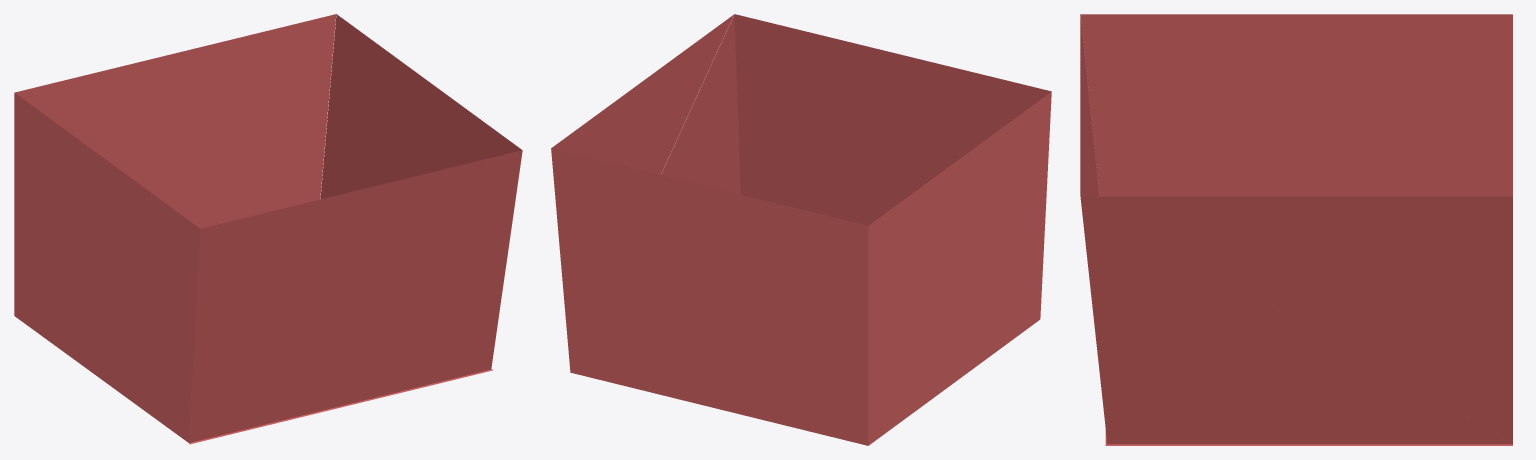
File: desert_land.glb
The picture shows the model from 3 angles, left to right: view 1: azimuth 30°, elevation 25°; view 2: azimuth 150°, elevation 25°; view 3: azimuth 270°, elevation 25°; orthographic projection. The views are drawn at different scales.
Visible parts, largest first — view 1: desert_land_col; view 2: desert_land_col; view 3: desert_land_col.
Boxes of the visible parts, x1,y1,x2,y2 form: desert_land_col: [14, 14, 522, 444]; desert_land_col: [551, 14, 1051, 445]; desert_land_col: [1080, 14, 1512, 445].
Bounding box in the file's own units: 17.31 × 11.51 × 17.32.
